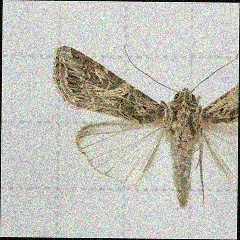Spodoptera litura: (51, 44, 239, 208)
